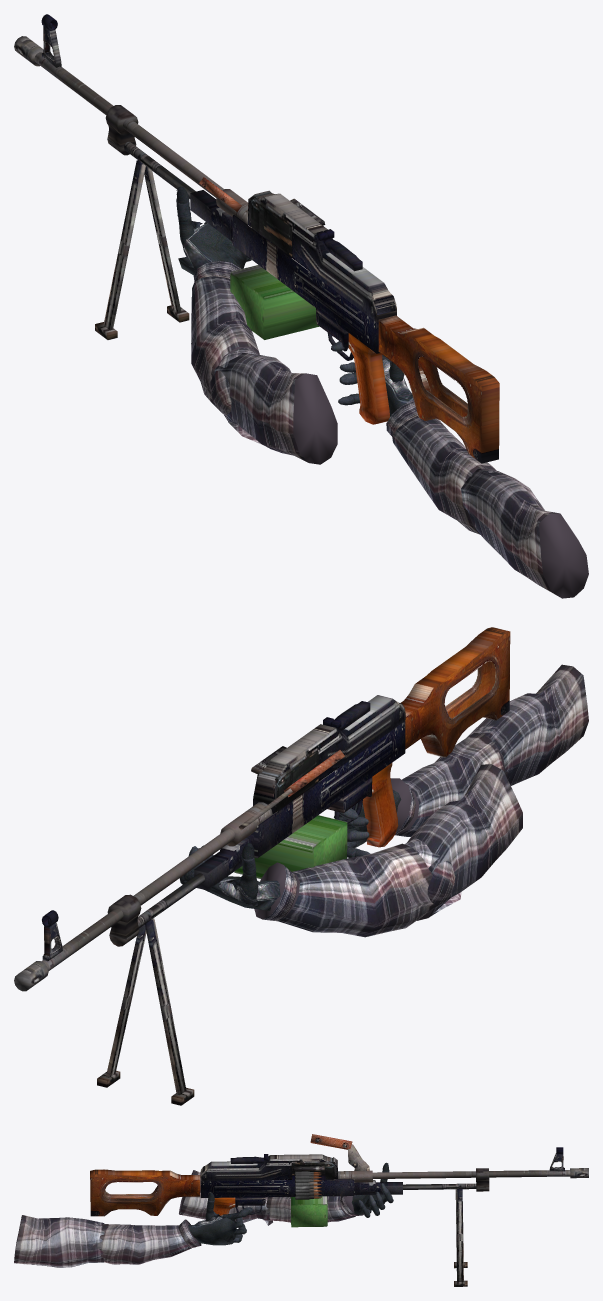
The model's file is pkm_adsfire.fbx.
3 views of the same model, one above another, from view 1: azimuth 30°, elevation 25°; view 2: azimuth 150°, elevation 25°; view 3: azimuth 270°, elevation 25° (orthographic). The views are drawn at different scales.
Visible parts, largest first — view 1: pkm, larm, rupperarm, rforearm, lhand, rhand; view 2: pkm, larm, rupperarm, rforearm, lhand; view 3: pkm, rupperarm, rforearm, larm, rhand, lhand.
Part boxes in pixels (x1,y1,x2,y2): pkm: [14, 14, 499, 463]; larm: [191, 261, 337, 464]; rupperarm: [461, 469, 588, 598]; rforearm: [386, 400, 496, 534]; lhand: [176, 186, 251, 275]; rhand: [382, 359, 413, 416]; pkm: [14, 627, 510, 1105]; larm: [254, 764, 522, 937]; rupperarm: [466, 664, 588, 785]; rforearm: [390, 733, 507, 836]; lhand: [179, 843, 280, 910]; pkm: [90, 1134, 588, 1286]; rupperarm: [14, 1215, 104, 1267]; rforearm: [97, 1219, 201, 1264]; larm: [179, 1170, 363, 1225]; rhand: [188, 1215, 236, 1245]; lhand: [348, 1162, 393, 1217].
Bounding box in the file's own units: 10.2 × 15.21 × 61.32.
